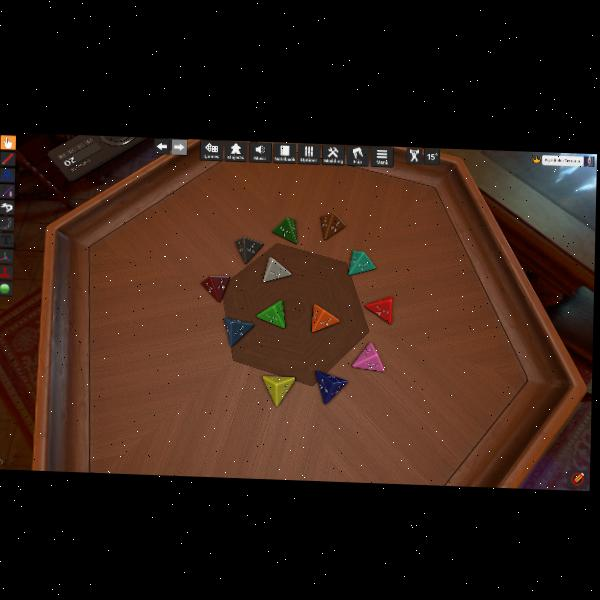d4: (314, 370, 346, 405), (262, 374, 295, 407), (352, 340, 385, 372), (256, 298, 286, 328), (224, 317, 254, 347), (310, 303, 339, 333), (234, 236, 263, 264), (263, 256, 292, 283), (365, 295, 392, 324), (200, 274, 227, 302), (272, 216, 298, 244), (348, 250, 375, 276), (320, 212, 344, 241)
